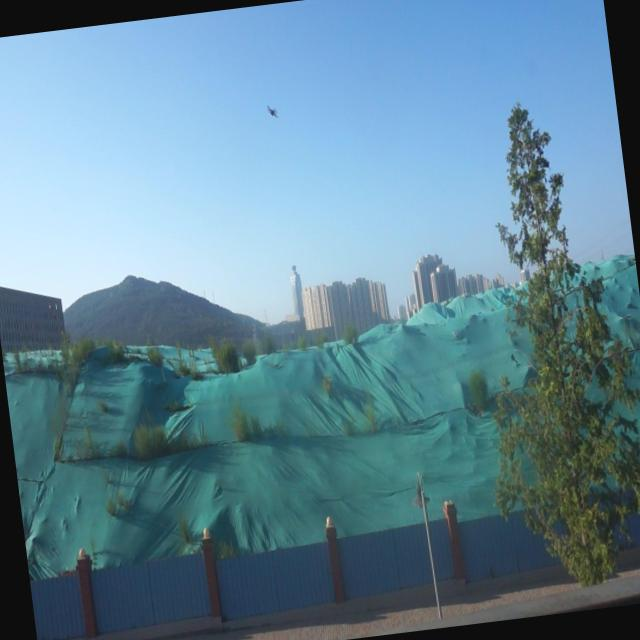drone: (264, 100, 281, 122)
